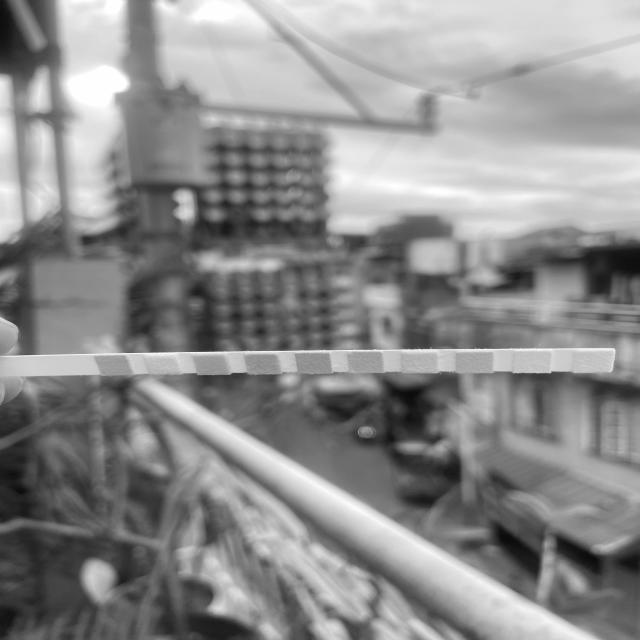Bilirubin: (150, 357, 178, 374)
Blood: (299, 353, 329, 373)
Glucose: (101, 356, 127, 375)
Ketone: (199, 355, 226, 375)
Leukocytes: (574, 352, 612, 372)
Nitrite: (514, 352, 550, 373)
Protein: (402, 352, 437, 373)
SpGravity: (248, 354, 278, 374)
Urobilinogen: (456, 352, 493, 373)
background: (0, 0, 640, 640)
pH: (351, 352, 382, 372)
strip: (0, 349, 616, 376)
